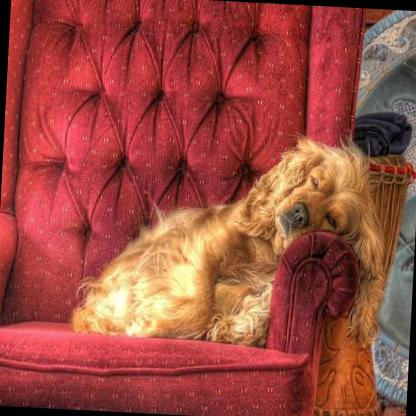cocker_spaniel: (72, 123, 388, 348)
